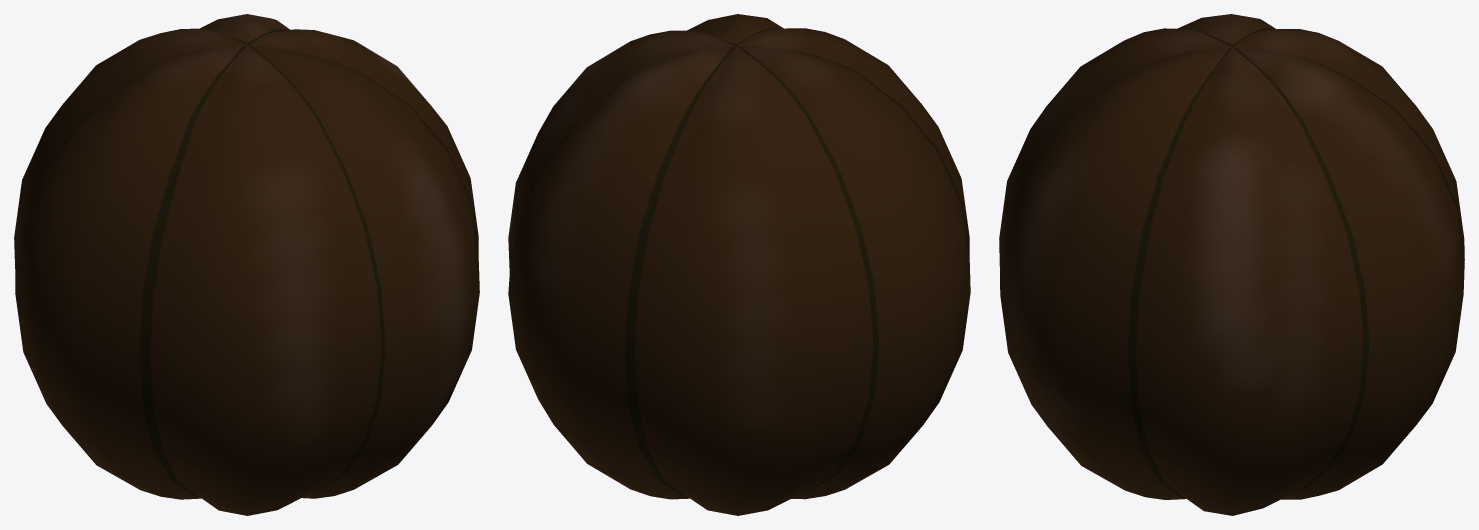
File: balon.fbx
The picture shows the model from 3 angles, left to right: view 1: azimuth 30°, elevation 25°; view 2: azimuth 150°, elevation 25°; view 3: azimuth 270°, elevation 25°; orthographic projection.
Visible parts, largest first — view 1: Pelota; view 2: Pelota; view 3: Pelota.
Part boxes in pixels (box(x1,y1,x2,y2)): Pelota: box(14, 14, 479, 515); Pelota: box(508, 14, 970, 515); Pelota: box(999, 14, 1464, 515).
Bounding box in the file's own units: 1.89 × 1.87 × 1.79.
